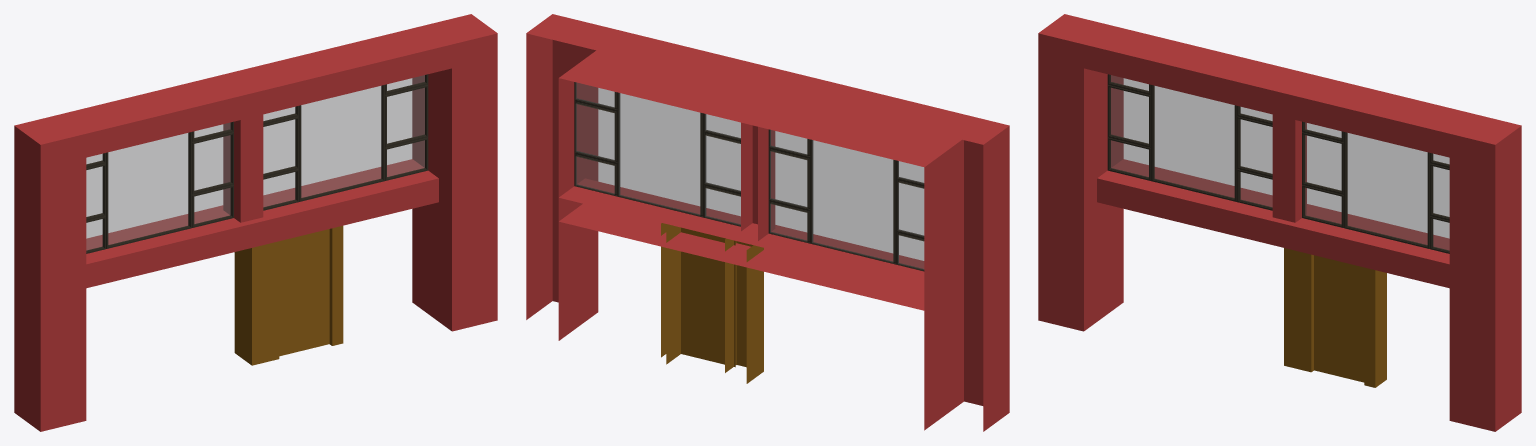
Rendered from ItalianTomato.FBX.
3 views of the same model, side by side, from view 1: azimuth 30°, elevation 25°; view 2: azimuth 150°, elevation 25°; view 3: azimuth 330°, elevation 25° (orthographic).
Visible parts, largest first — view 1: ItalianTomato; view 2: ItalianTomato; view 3: ItalianTomato.
Boxes of the visible parts, x1,y1,x2,y2 form: ItalianTomato: [14, 14, 497, 431]; ItalianTomato: [526, 14, 1009, 431]; ItalianTomato: [1038, 14, 1521, 431].
Bounding box in the file's own units: 1000 × 604 × 150.
